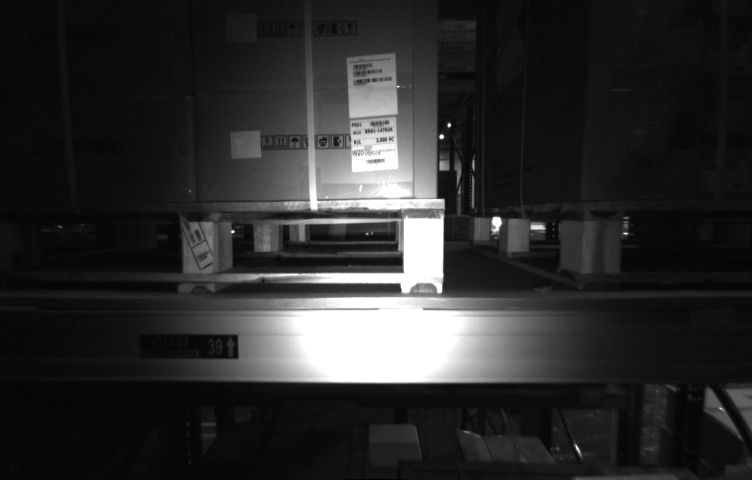True Barcode: (351, 116, 397, 174)
